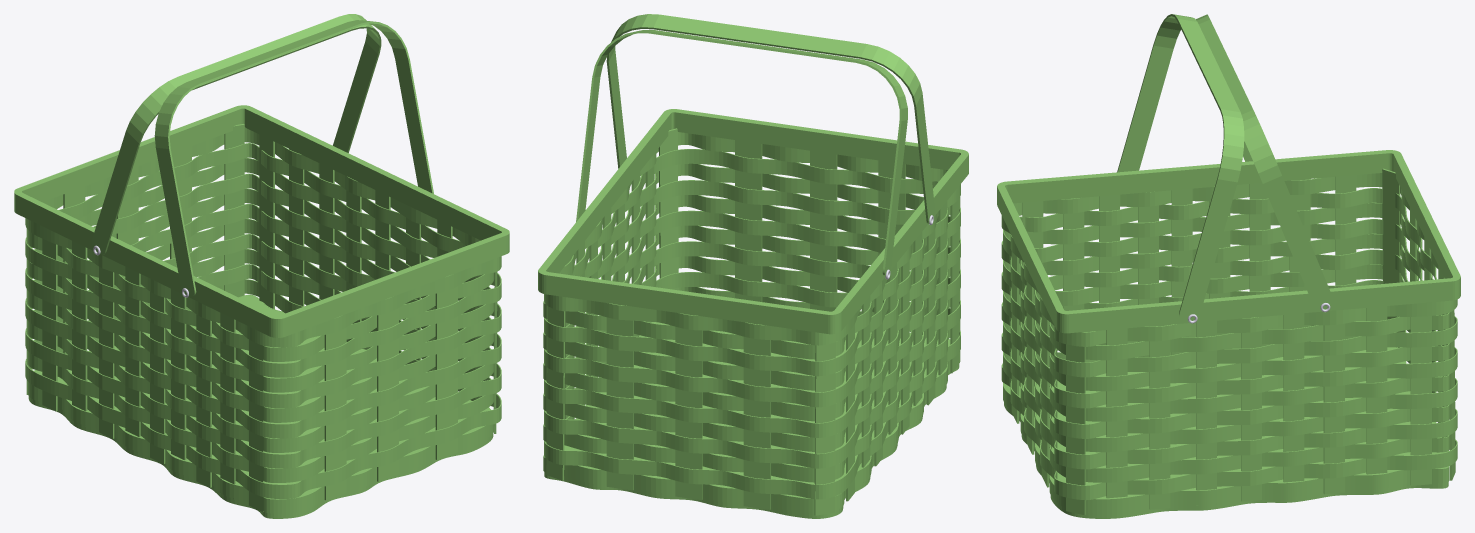
The model's file is mand.fbx.
3 views of the same model, side by side, from view 1: azimuth 30°, elevation 25°; view 2: azimuth 150°, elevation 25°; view 3: azimuth 270°, elevation 25° (orthographic).
Visible parts, largest first — view 1: Group04; view 2: Group04; view 3: Group04.
Boxes of the visible parts, x1=… form: Group04: x1=14, y1=14, x2=509, y2=518; Group04: x1=538, y1=14, x2=968, y2=518; Group04: x1=997, y1=14, x2=1460, y2=518.
Bounding box in the file's own units: 17.74 × 19.03 × 21.16.
